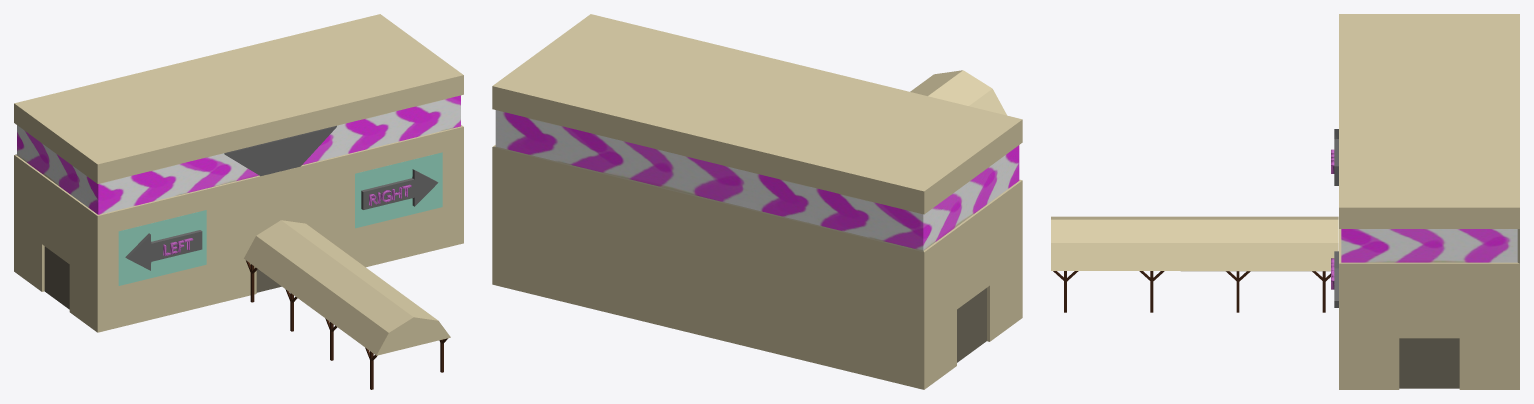
Rendered from conventionBuilding.fbx.
The picture shows the model from 3 angles, left to right: view 1: azimuth 30°, elevation 25°; view 2: azimuth 150°, elevation 25°; view 3: azimuth 270°, elevation 25°; orthographic projection. The views are drawn at different scales.
Parts seen in each view (by area): view 1: Text.007; view 2: Text.007; view 3: Text.007.
Boxes of the visible parts, x1=… form: Text.007: x1=14, y1=14, x2=463, y2=389; Text.007: x1=492, y1=14, x2=1022, y2=389; Text.007: x1=1051, y1=14, x2=1519, y2=389.
Bounding box in the file's own units: 2529 × 1112 × 2589.
Materials: 7 (1 with a texture image).
